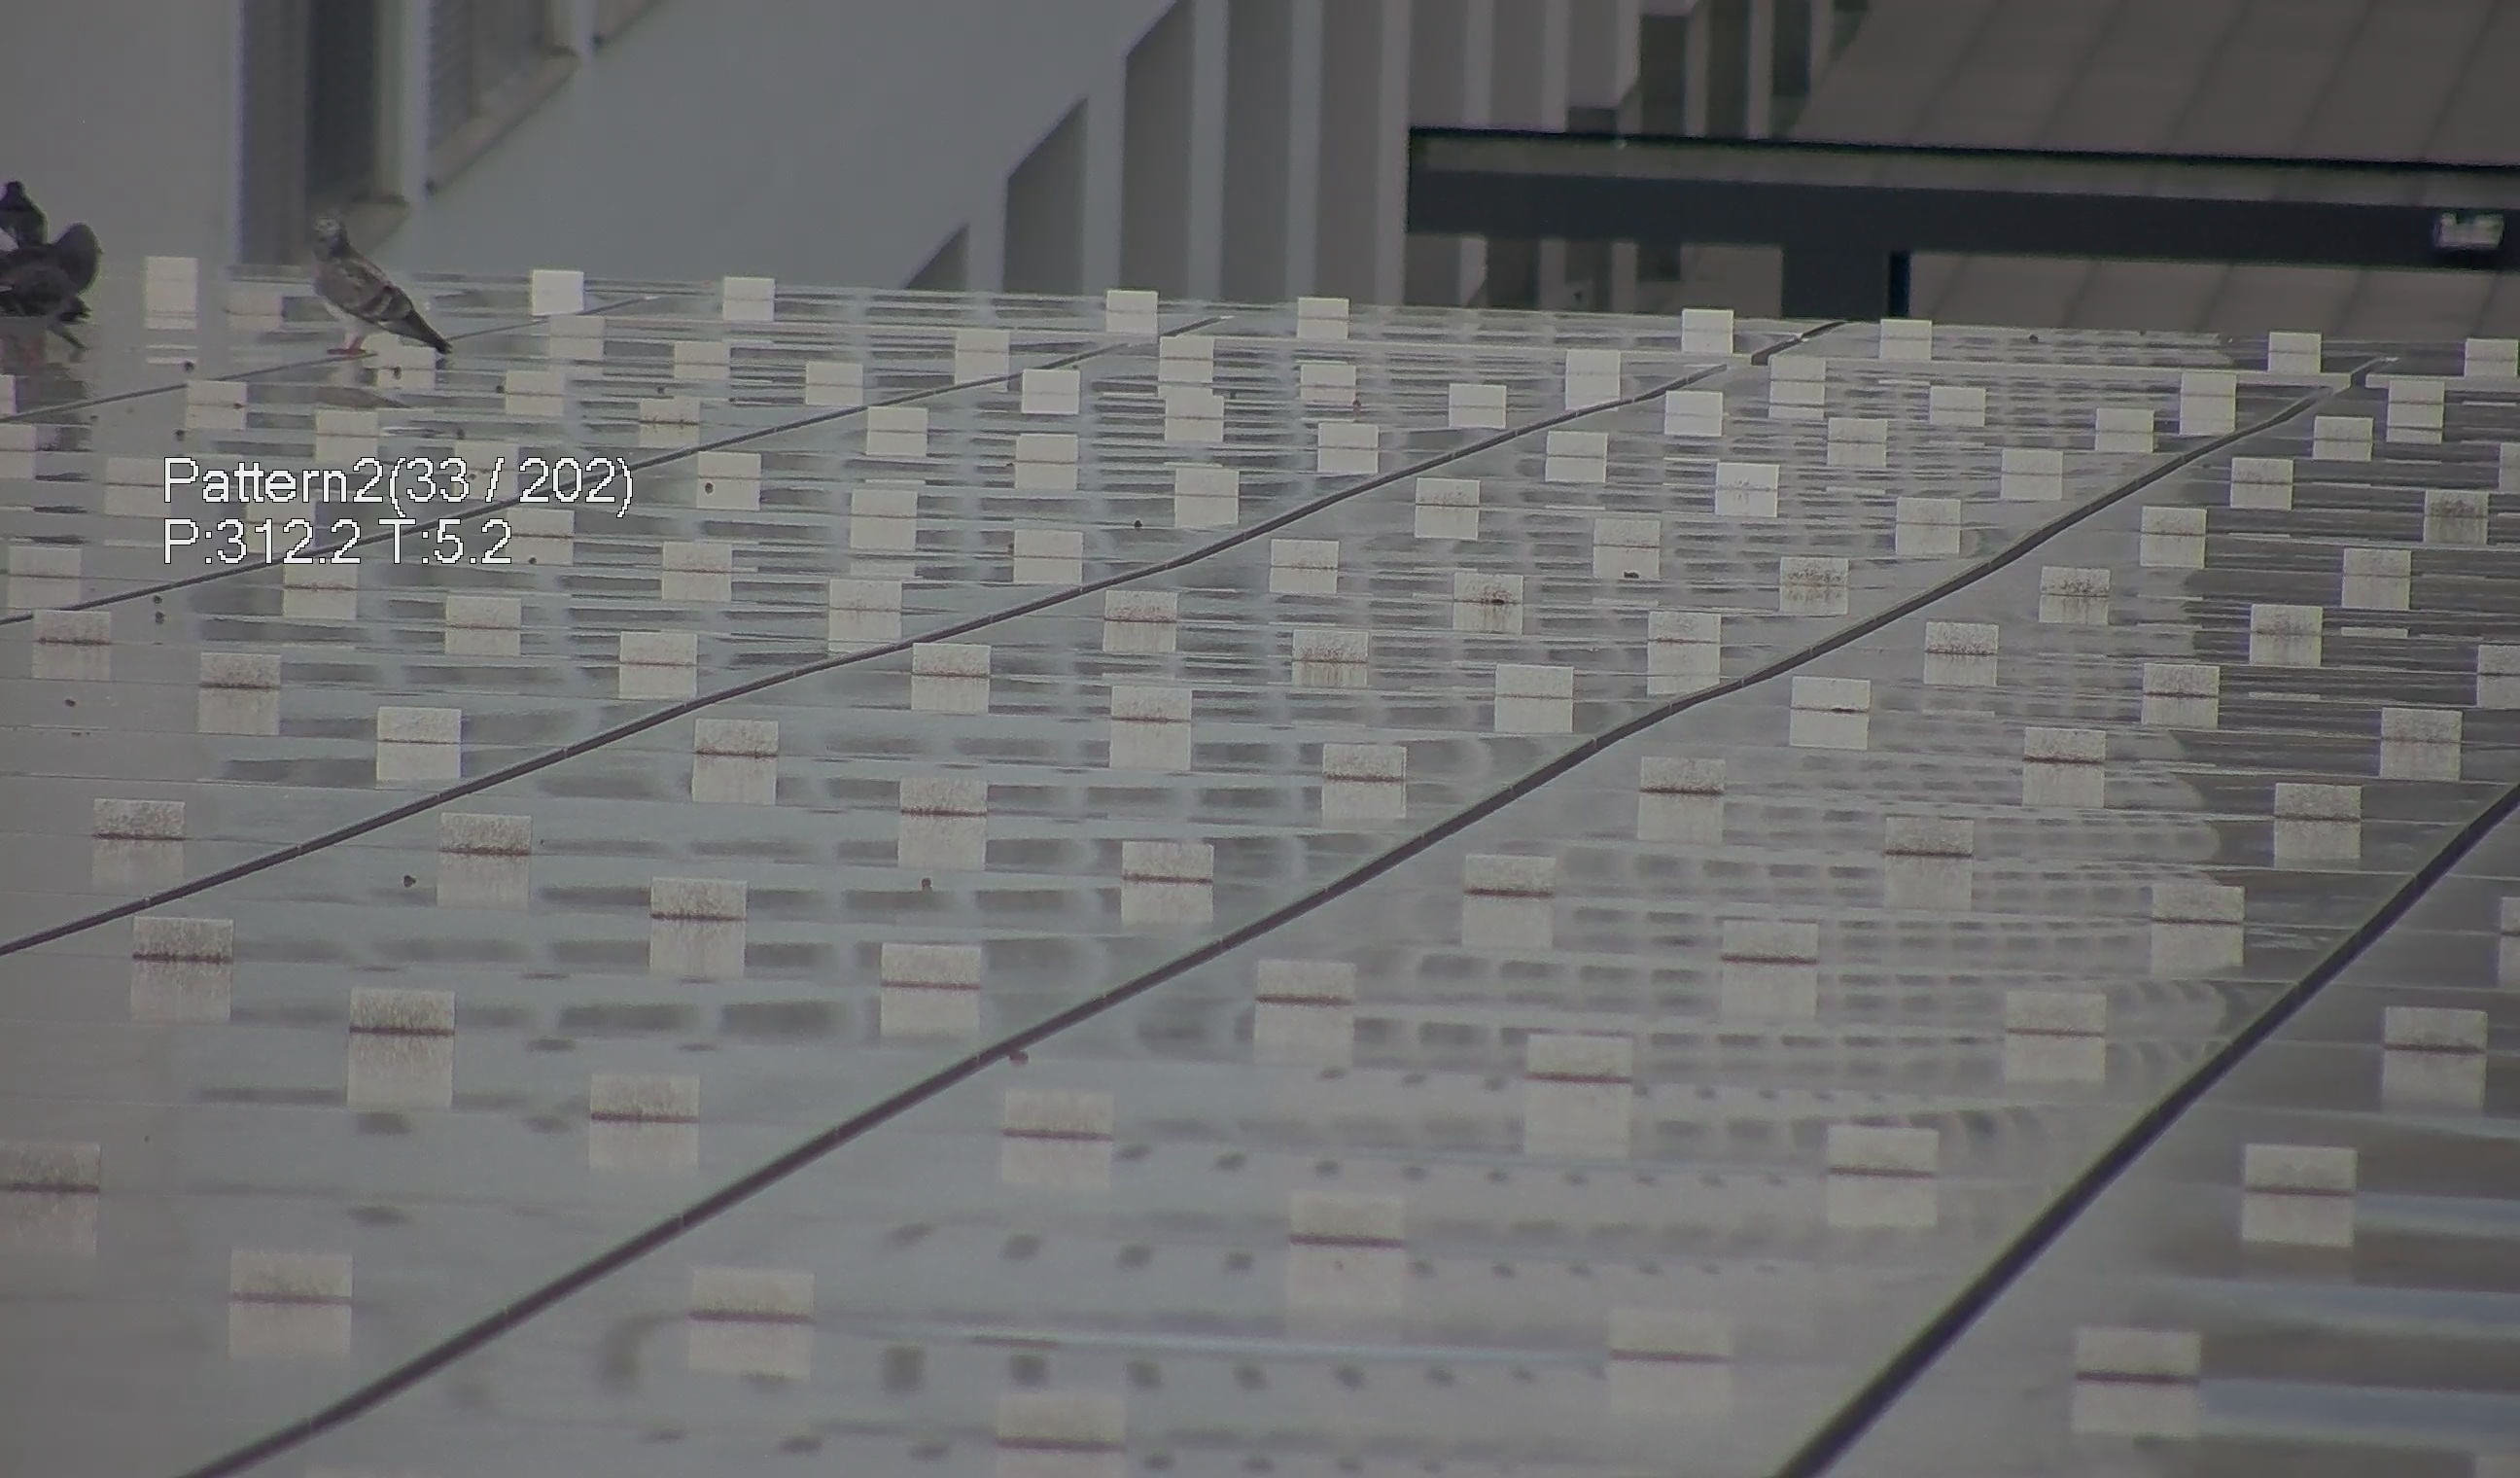Pigeon: (292, 197, 454, 373), (2, 225, 118, 355)
